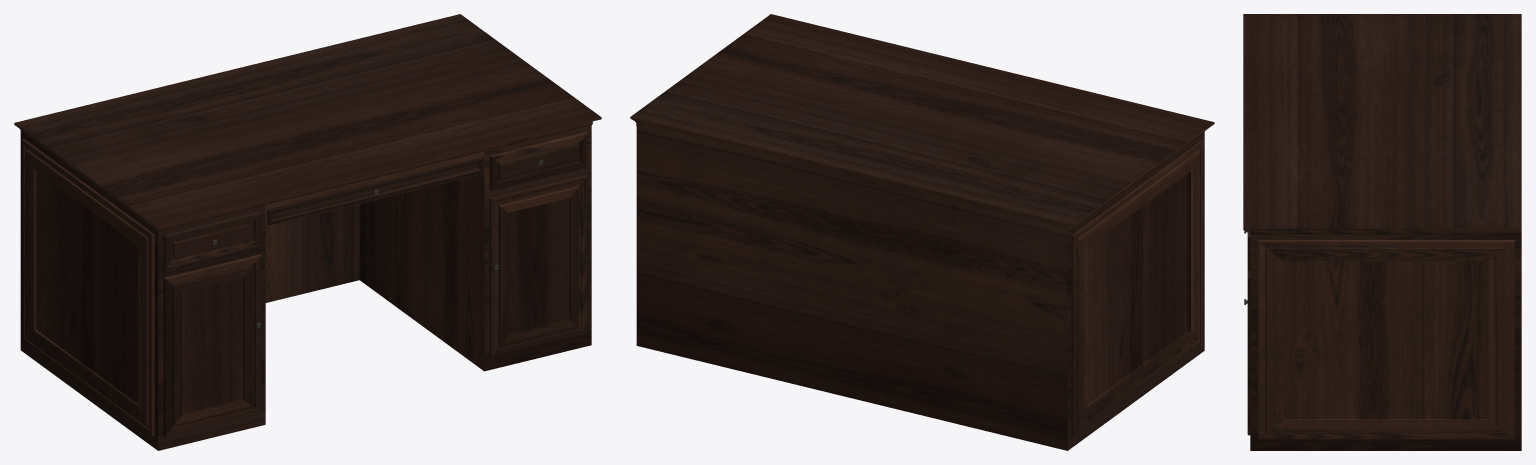
File: desk.glb
3 renders of one model, left to right at view 1: azimuth 30°, elevation 25°; view 2: azimuth 150°, elevation 25°; view 3: azimuth 270°, elevation 25°, orthographic.
Bounding box in the file's own units: 163 × 79.99 × 89.54.
Materials: 1 (1 with a texture image).
